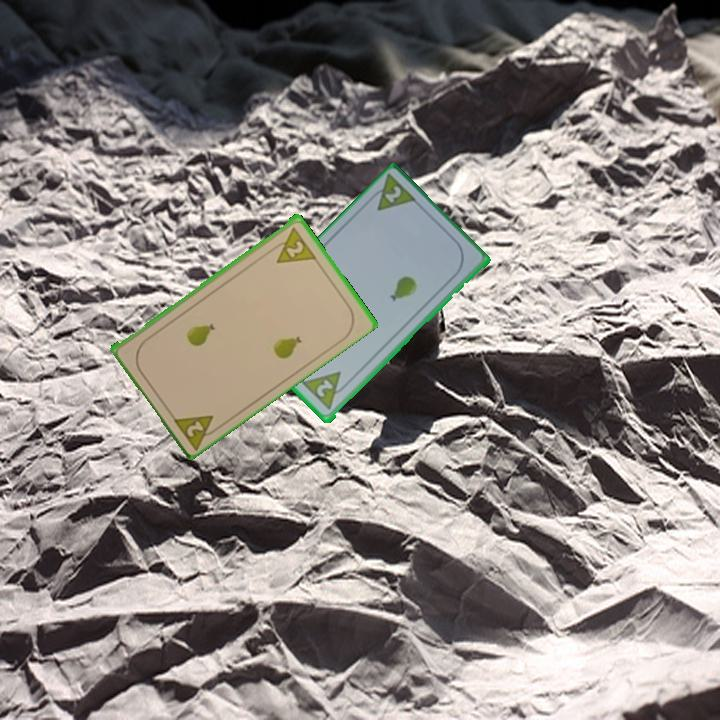2p: (267, 222, 318, 266), (169, 411, 224, 451), (313, 376, 336, 400), (381, 182, 404, 206)
